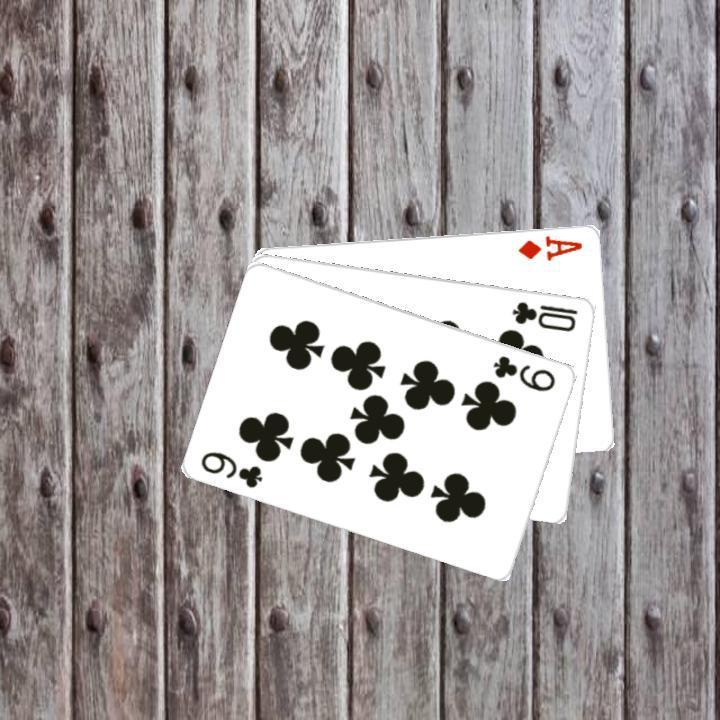10: (508, 296, 580, 333)
9: (488, 351, 558, 394), (197, 447, 266, 490)
A: (514, 231, 584, 262)
